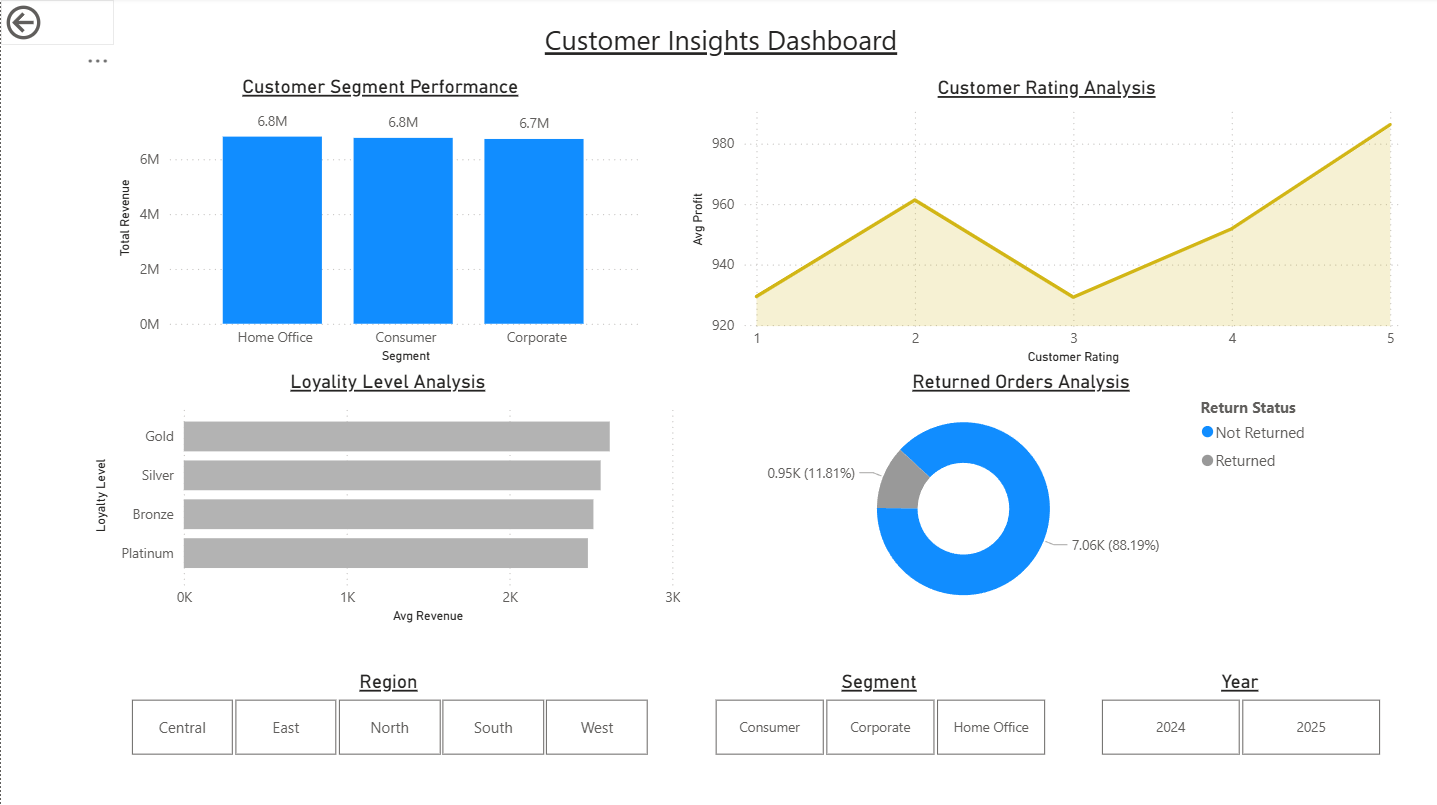

The dashboard page shown, as its layout file describes it:
{"tool":"powerbi","page":{"name":"Customer Insights","canvas":[1280,720],"ordinal":1},"visuals":[{"type":"clusteredColumnChart","title":"Customer Segment Performance","fields":{"Category":["Retail_sales_cleaned.Segment"],"Y":["Sum(Retail_sales_cleaned.Revenue)"]},"box":[100,66.7,474.4,261.1],"z":0},{"type":"lineChart","title":"Customer Rating Analysis","fields":{"Category":["Retail_sales_cleaned.CustomerRating"],"Y":["Avg(Retail_sales_cleaned.Profit)"]},"box":[608.9,67.8,641.1,261.1],"z":1000},{"type":"donutChart","title":"Returned Orders Analysis","fields":{"Category":["Retail_sales_cleaned.ReturnStatus"],"Y":["CountNonNull(Retail_sales_cleaned.OrderID)"]},"box":[640,328.9,533.3,227.8],"z":2000},{"type":"clusteredBarChart","title":"Loyality Level Analysis","fields":{"Category":["Retail_sales_cleaned.LoyaltyLevel"],"Y":["Avg(Retail_sales_cleaned.Revenue)"]},"box":[78.9,328.9,530,230],"z":3000},{"type":"slicer","title":"Year","fields":{"Values":["Retail_sales_cleaned.Year"]},"box":[952.2,595.6,297.8,82.2],"z":4000},{"type":"slicer","title":"Region","fields":{"Values":["Retail_sales_cleaned.Region"]},"box":[90,595.6,508.9,82.2],"z":5000},{"type":"slicer","title":"Segment","fields":{"Values":["Retail_sales_cleaned.Segment"]},"box":[608.9,595.6,343.3,82.2],"z":6000},{"type":"actionButton","box":[0,0,100,40],"z":7000},{"type":"textbox","box":[463.3,14.4,353.3,52.2],"z":8000}]}

Visuals, with their boxes on the page's 1280x720 design canvas (x1, y1, x2, y2). These are canvas units, not pixel positions in the 1437x805 screenshot, which may show the page scaled, cropped or inside an application window:
"Customer Segment Performance" clusteredColumnChart: (100, 67, 574, 328)
"Customer Rating Analysis" lineChart: (609, 68, 1250, 329)
"Returned Orders Analysis" donutChart: (640, 329, 1173, 557)
"Loyality Level Analysis" clusteredBarChart: (79, 329, 609, 559)
"Year" slicer: (952, 596, 1250, 678)
"Region" slicer: (90, 596, 599, 678)
"Segment" slicer: (609, 596, 952, 678)
actionButton: (0, 0, 100, 40)
textbox: (463, 14, 817, 67)
